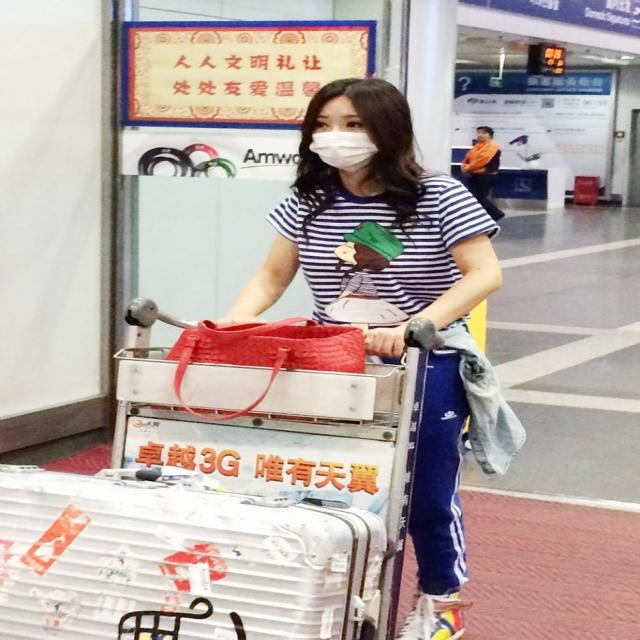mask: (312, 96, 374, 172)
